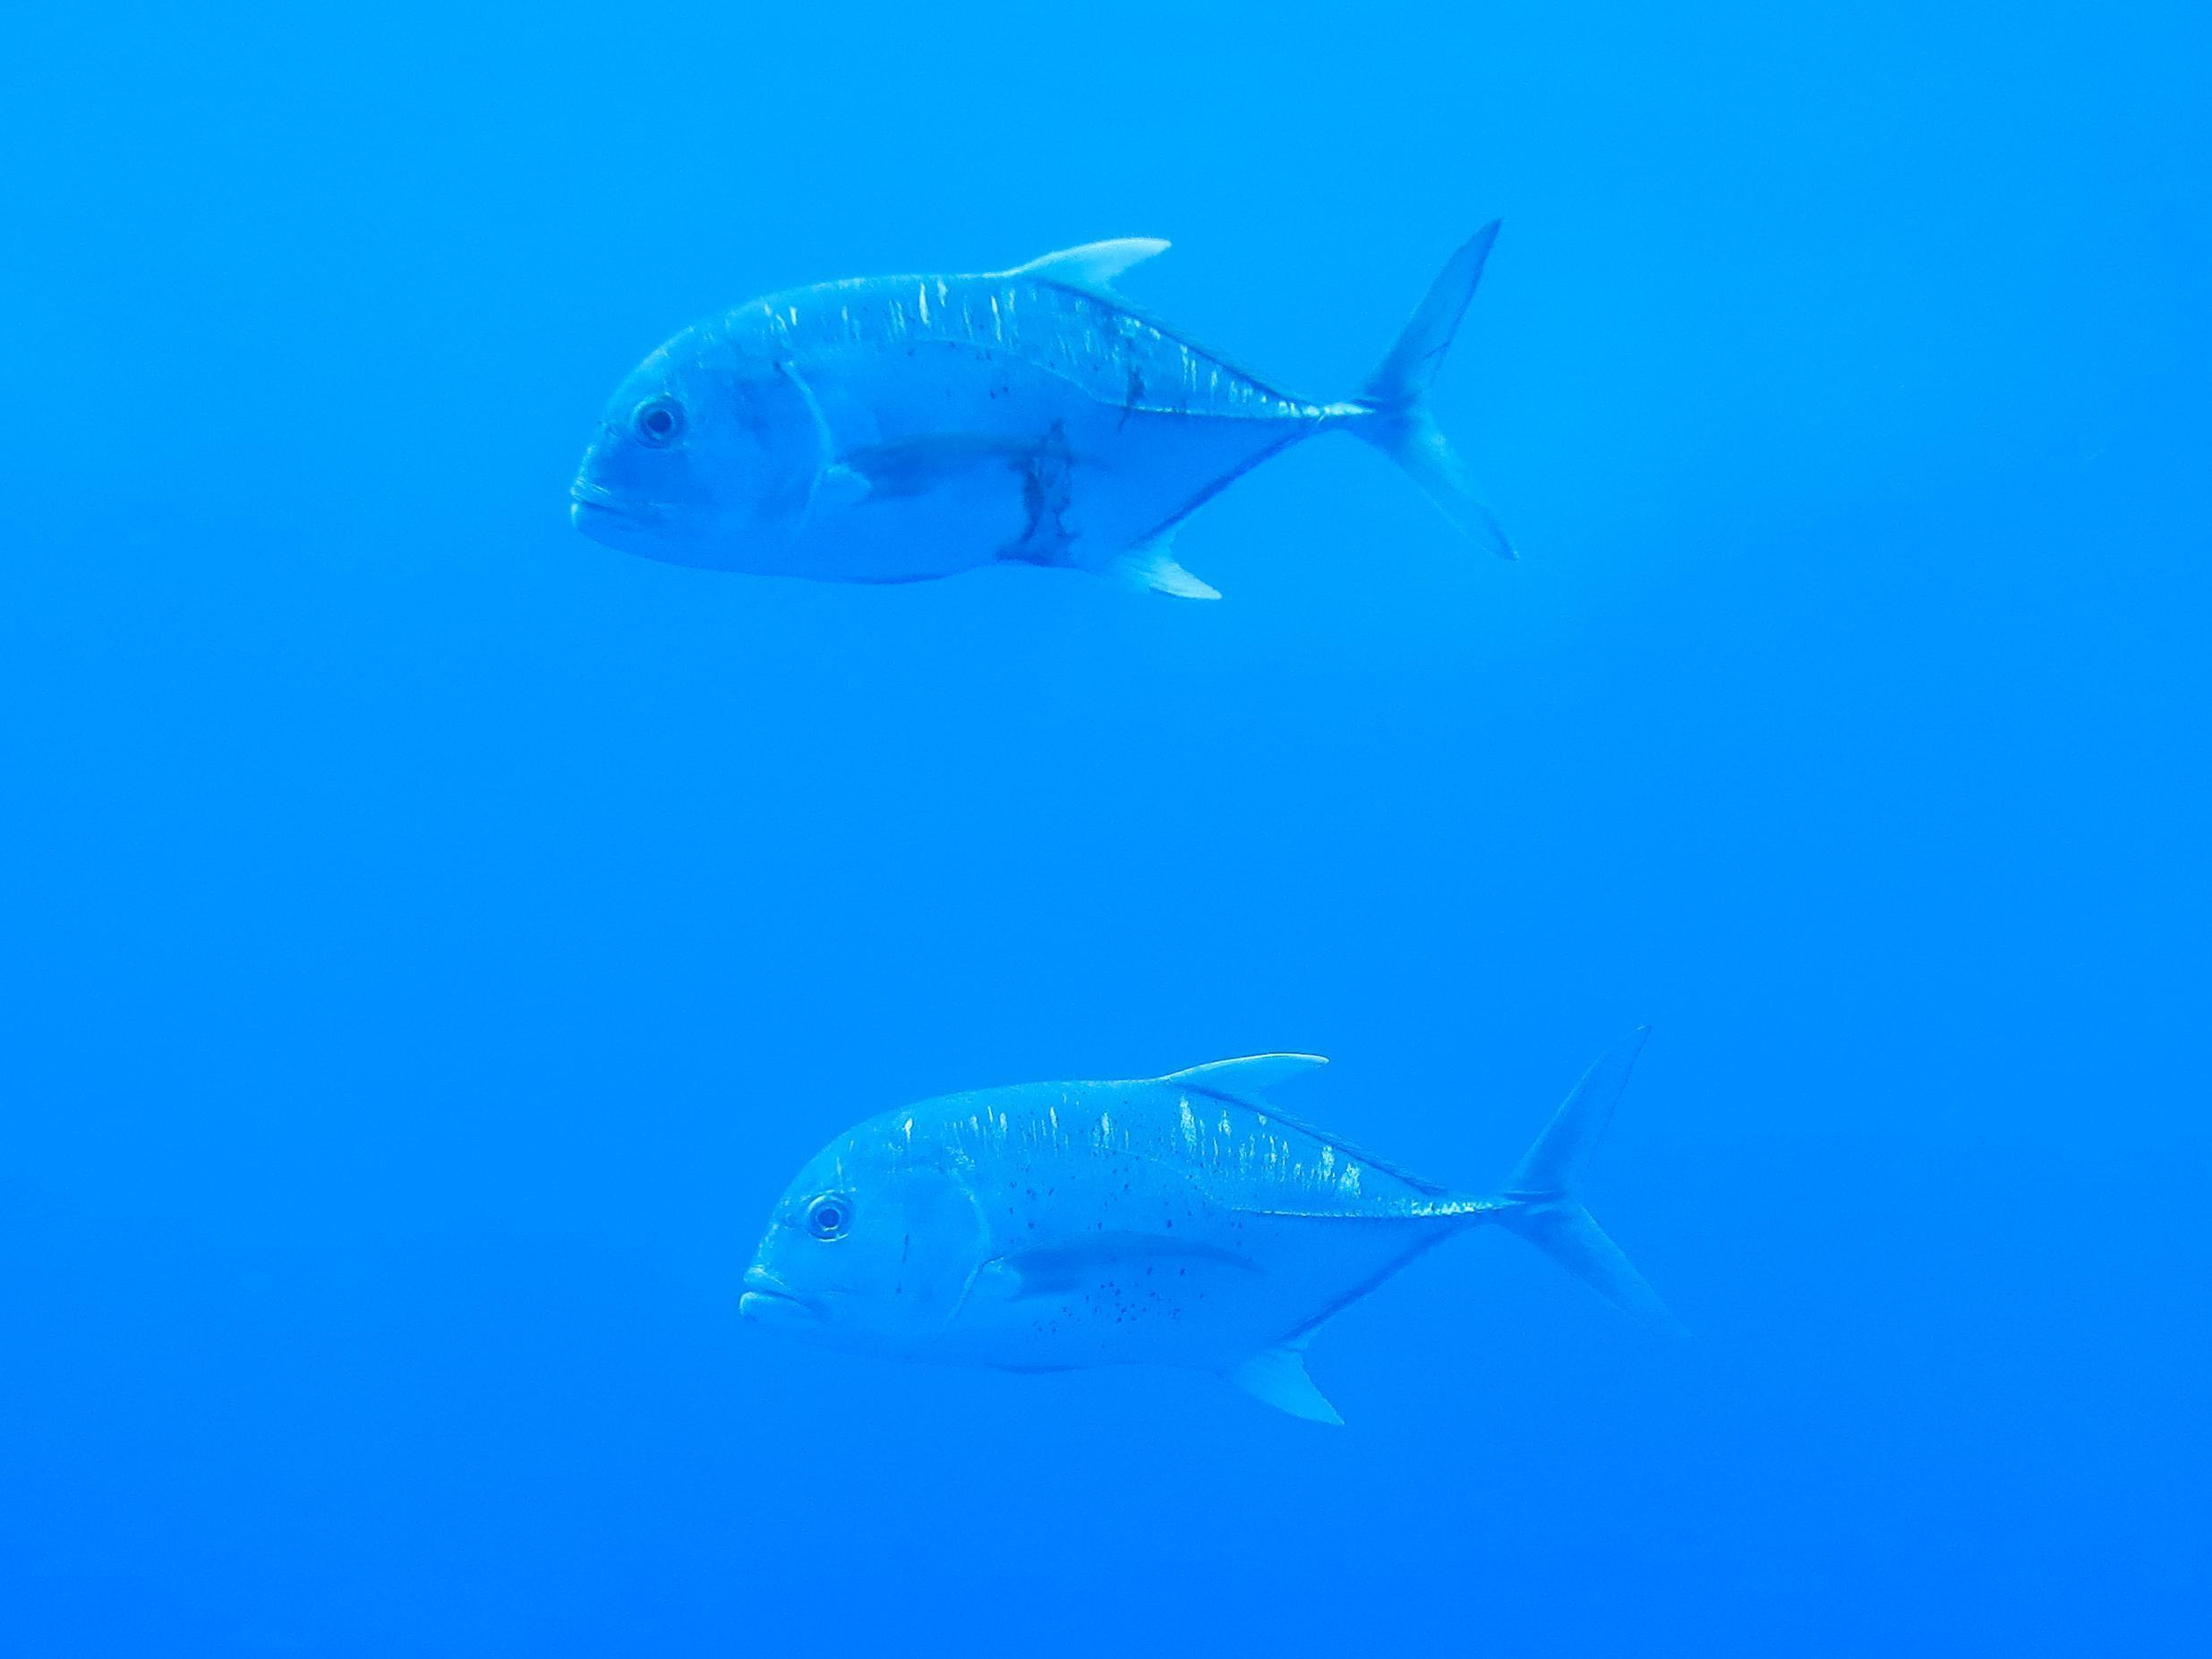Fish: (545, 176, 1531, 638), (723, 1016, 1698, 1460)
